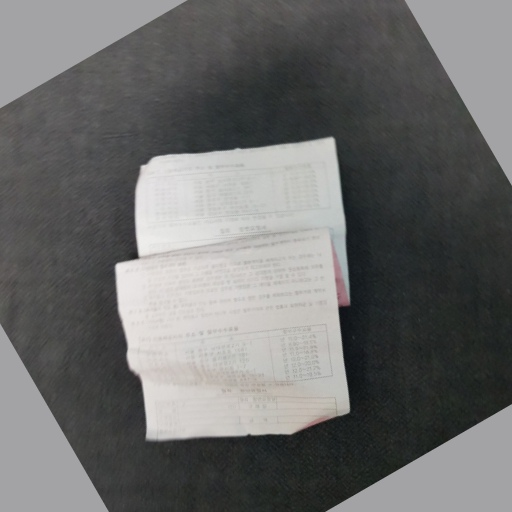Paper_3: (107, 136, 372, 446)
